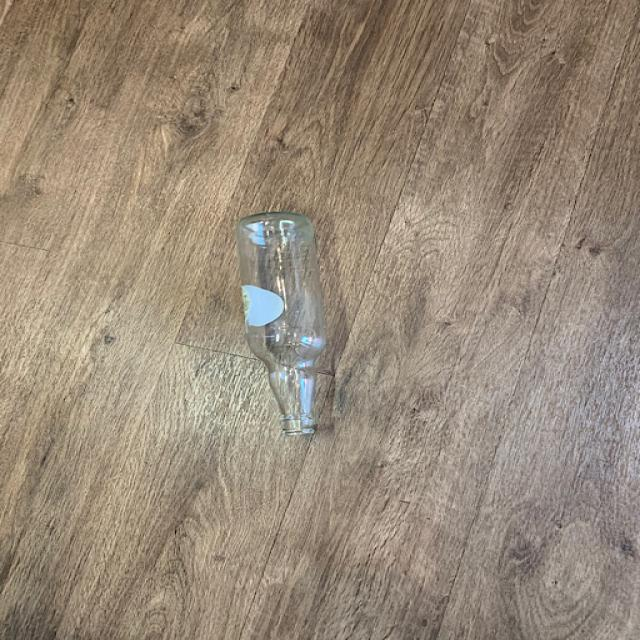litter: (235, 210, 335, 442)
